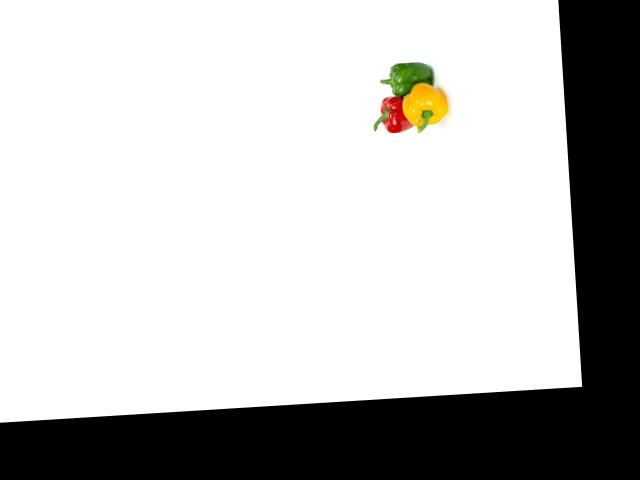bell_pepper: (366, 89, 420, 140)
